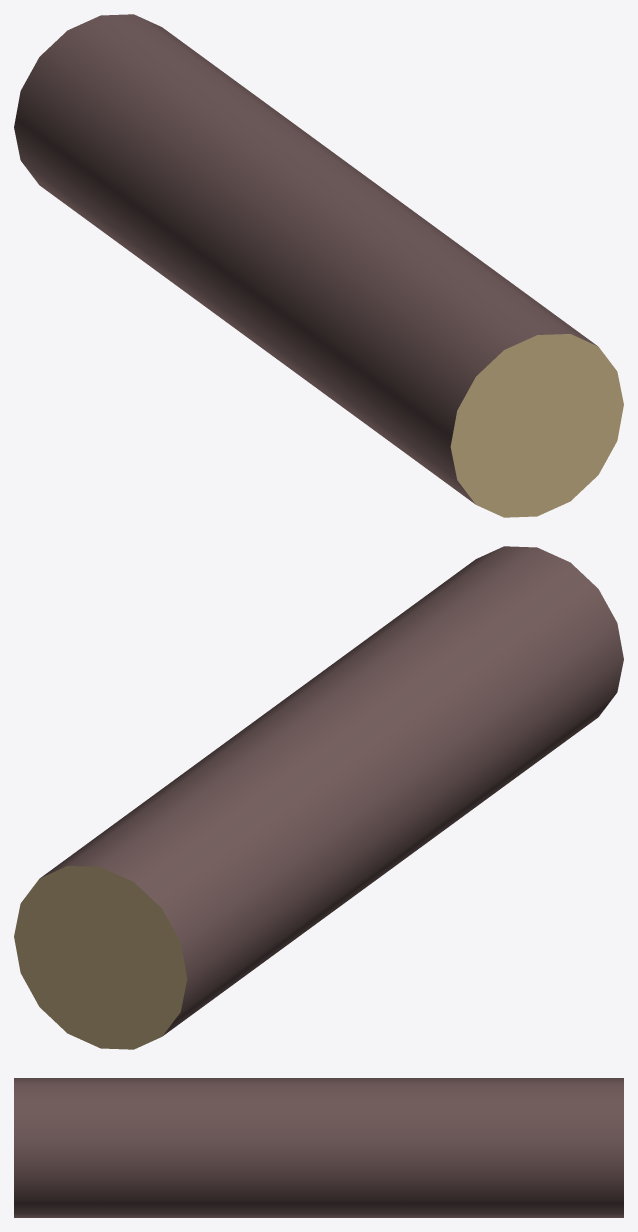
File: Odun.fbx
3 views of the same model, one above another, from view 1: azimuth 30°, elevation 25°; view 2: azimuth 150°, elevation 25°; view 3: azimuth 270°, elevation 25° (orthographic). The views are drawn at different scales.
Parts seen in each view (by area): view 1: polySurface1, polySurface2; view 2: polySurface2, polySurface1; view 3: polySurface1, polySurface2.
Part boxes in pixels (bbox=[...]): polySurface1: bbox=[232, 174, 623, 517]; polySurface2: bbox=[14, 14, 379, 344]; polySurface2: bbox=[14, 706, 405, 1049]; polySurface1: bbox=[258, 546, 623, 876]; polySurface1: bbox=[14, 1078, 318, 1217]; polySurface2: bbox=[319, 1078, 623, 1217].
Size of the model in its own units: 2.67 by 2.67 by 11.67.
